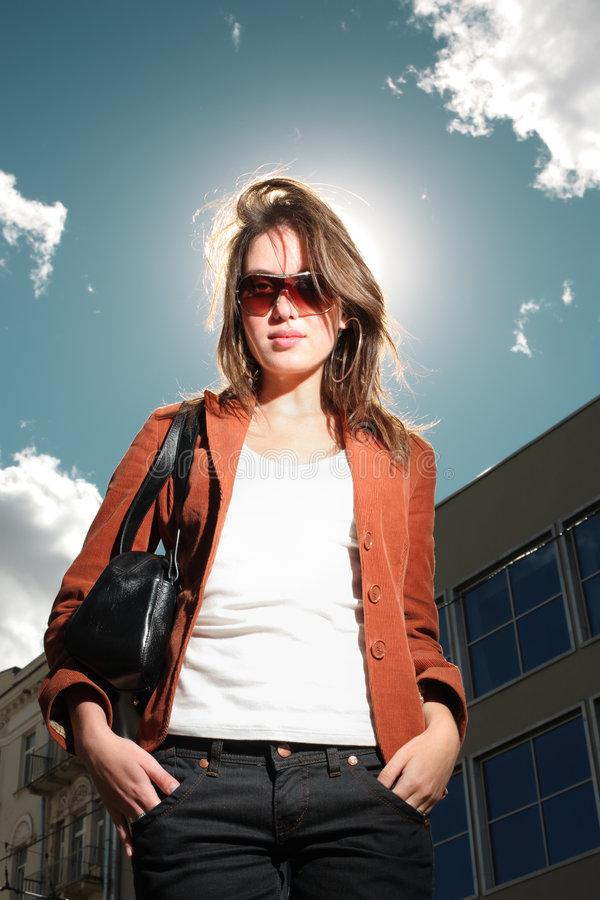handbag: (41, 392, 223, 701)
